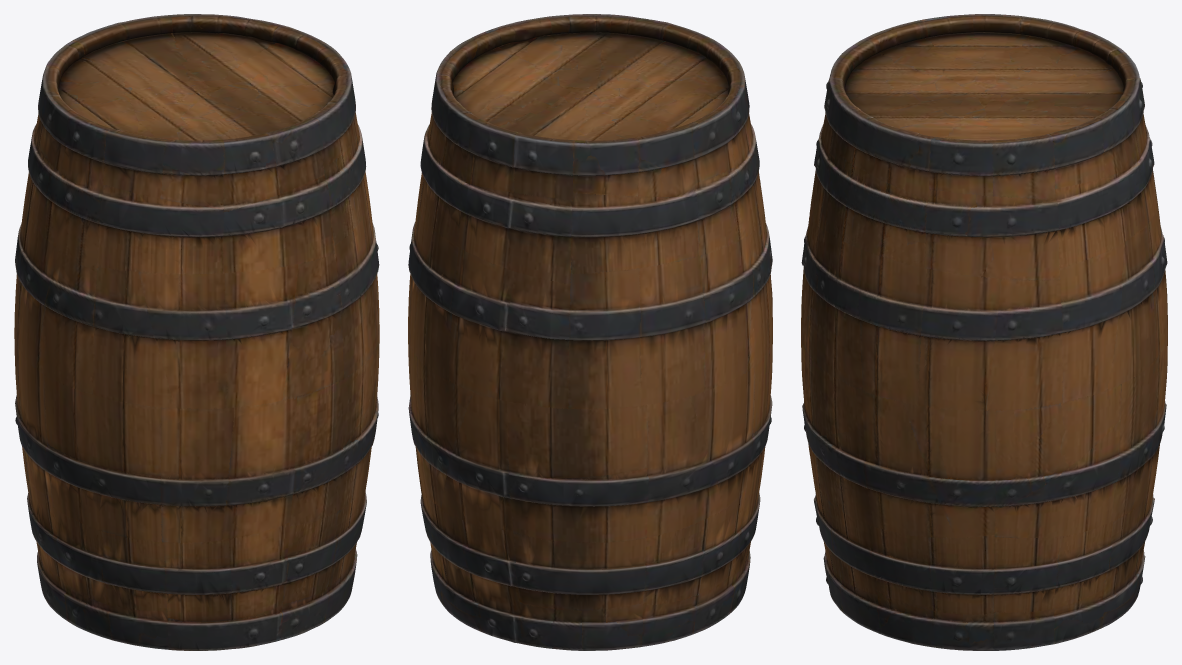
File: wooden-barrel.glb
The picture shows the model from 3 angles, left to right: view 1: azimuth 30°, elevation 25°; view 2: azimuth 150°, elevation 25°; view 3: azimuth 270°, elevation 25°; orthographic projection.
Visible parts, largest first — view 1: mesh_node; view 2: mesh_node; view 3: mesh_node.
Part boxes in pixels (x1,y1,x2,y2): mesh_node: (14, 14, 379, 650); mesh_node: (408, 14, 772, 650); mesh_node: (801, 14, 1167, 650).
Size of the model in its own units: 1.25 by 1.9 by 1.25.
Materials: 1 (1 with a texture image).
